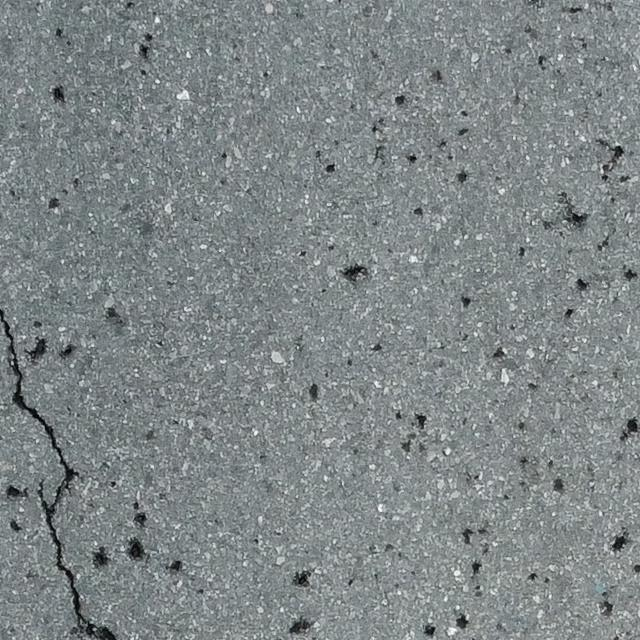LongitudinalCrack: (1, 312, 113, 640)
